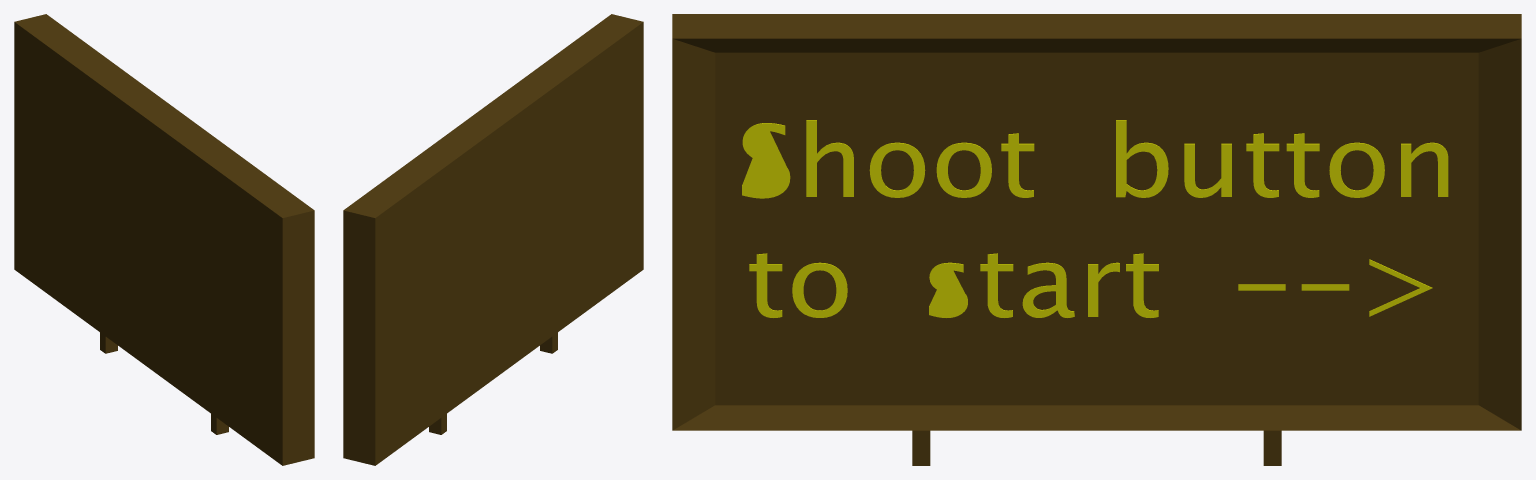
File: SM_Sign.fbx
3 renders of one model, left to right at view 1: azimuth 30°, elevation 25°; view 2: azimuth 150°, elevation 25°; view 3: azimuth 270°, elevation 25°, orthographic. The views are drawn at different scales.
Parts seen in each view (by area): view 1: pCube4; view 2: pCube4; view 3: pCube4, typeMesh1.
Boxes of the visible parts, left/top/right/bottom form: pCube4: left=14, top=14, right=314, bottom=465; pCube4: left=343, top=14, right=643, bottom=465; pCube4: left=672, top=14, right=1521, bottom=465; typeMesh1: left=742, top=120, right=1448, bottom=317.
Bounding box in the file's own units: 1 × 8.19 × 14.5.
